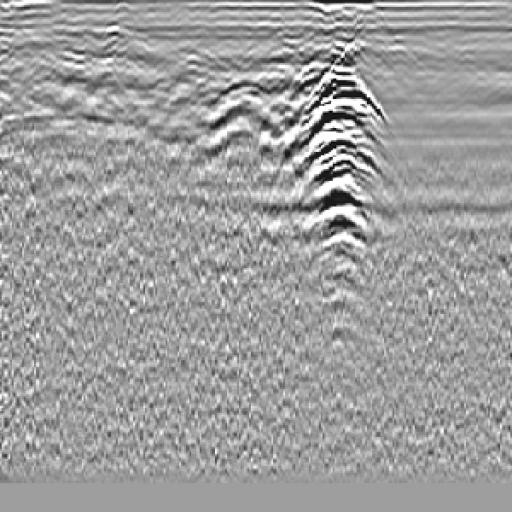metalic: (280, 26, 395, 308), (168, 62, 297, 196)
